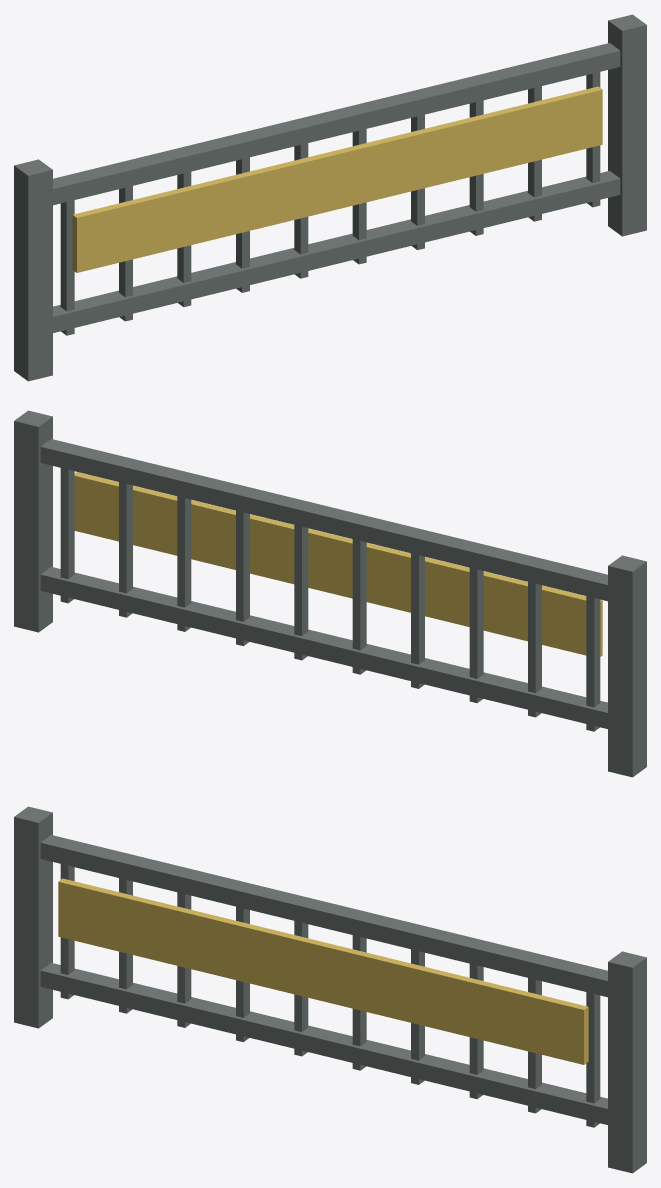
3 renders of one model, top to bottom at view 1: azimuth 30°, elevation 25°; view 2: azimuth 150°, elevation 25°; view 3: azimuth 330°, elevation 25°, orthographic.
Size of the model in its own units: 4 by 1.27 by 0.185.
